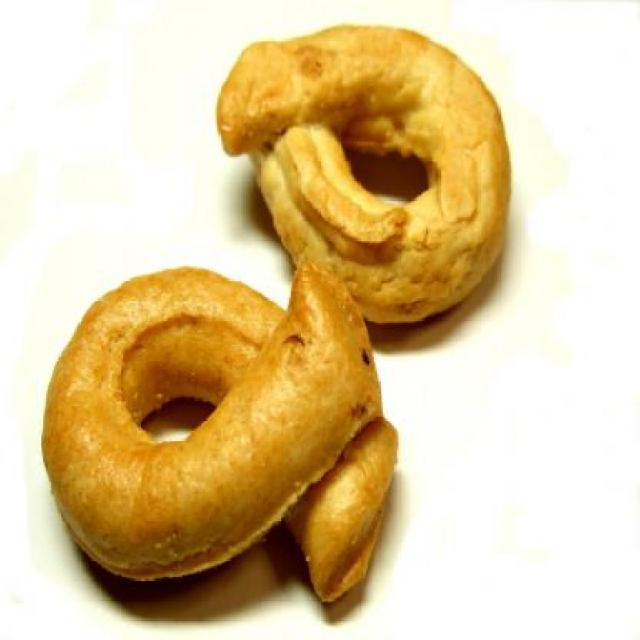Taralli: (49, 25, 514, 598)
